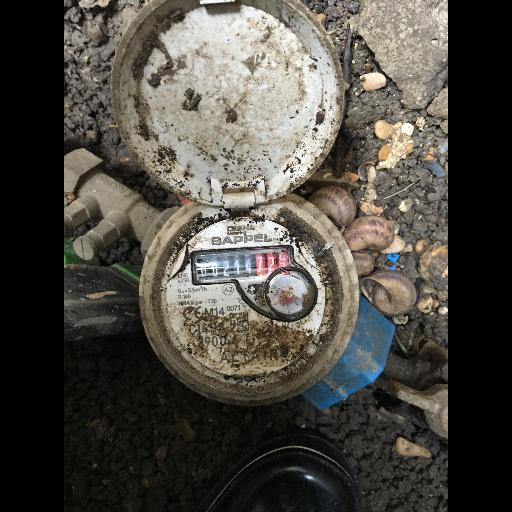0: (197, 258, 209, 281), (210, 257, 221, 280)
1: (233, 255, 242, 278)
2: (221, 256, 231, 279), (277, 250, 289, 268), (267, 252, 276, 273)
4: (243, 254, 253, 277)
7: (255, 253, 265, 276)
border_water_meter_number: (193, 248, 293, 285)
